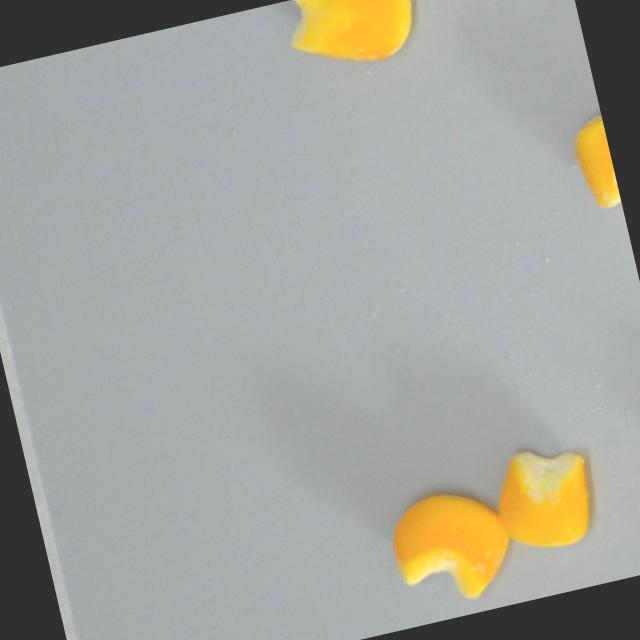no_canjicado: (383, 480, 520, 614), (487, 435, 603, 558), (567, 110, 622, 212)
pelicula: (277, 0, 424, 79)
